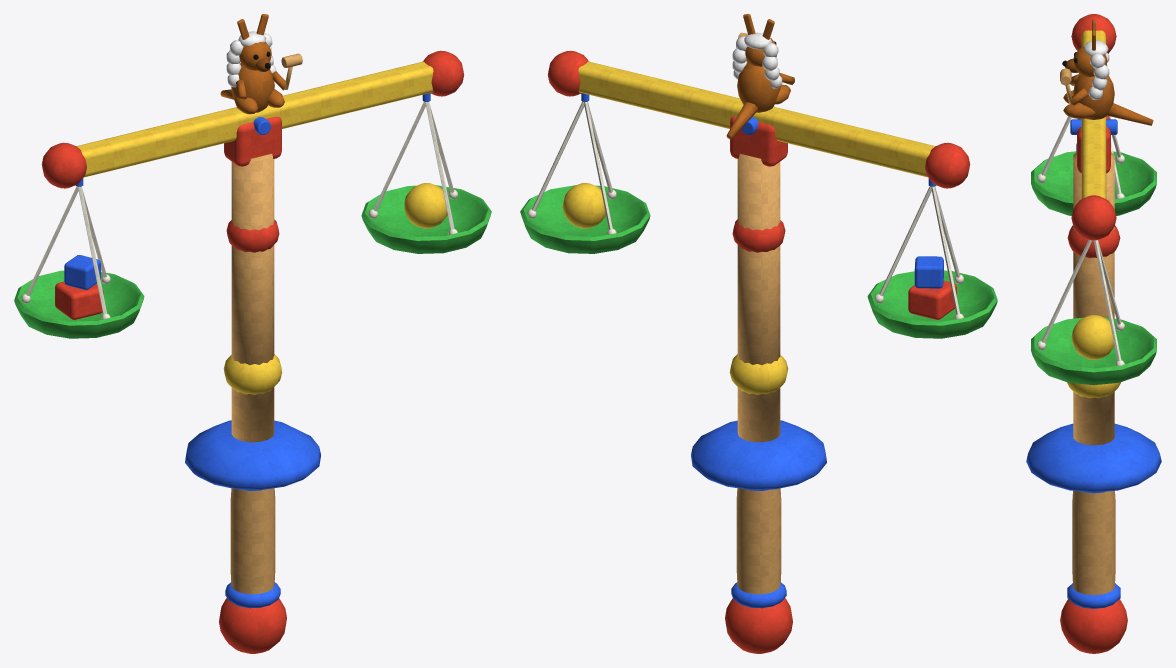
The model's file is w_scales_kangaroo.glb.
3 views of the same model, side by side, from view 1: azimuth 30°, elevation 25°; view 2: azimuth 150°, elevation 25°; view 3: azimuth 270°, elevation 25° (orthographic).
Visible parts, largest first — view 1: kc_body_wzB, kc_beam_wzB, kc_handle_wzA, kc_pan_r_wzB, kc_pan_l_wzB, kc_toys_l_wzN, kc_toys_r_wzN; view 2: kc_body_wzB, kc_beam_wzB, kc_handle_wzA, kc_pan_r_wzB, kc_pan_l_wzB, kc_toys_l_wzN, kc_toys_r_wzN; view 3: kc_body_wzB, kc_handle_wzA, kc_pan_r_wzB, kc_beam_wzB, kc_pan_l_wzB, kc_toys_r_wzN.
Boxes of the visible parts, x1,y1,x2,y2 form: kc_body_wzB: (185,14,320,489); kc_beam_wzB: (41,50,463,188); kc_handle_wzA: (219,488,286,653); kc_pan_r_wzB: (361,101,491,253); kc_pan_l_wzB: (14,186,144,338); kc_toys_l_wzN: (55,255,103,319); kc_toys_r_wzN: (404,183,447,228); kc_body_wzB: (691,14,826,489); kc_beam_wzB: (548,50,970,188); kc_handle_wzA: (725,488,792,653); kc_pan_r_wzB: (520,101,650,253); kc_pan_l_wzB: (867,186,997,338); kc_toys_l_wzN: (908,256,956,319); kc_toys_r_wzN: (562,183,605,228); kc_body_wzB: (1026,20,1161,492); kc_handle_wzA: (1060,491,1127,653); kc_pan_r_wzB: (1031,240,1156,385); kc_beam_wzB: (1070,14,1117,240); kc_pan_l_wzB: (1031,116,1156,215); kc_toys_r_wzN: (1071,315,1114,359).
Bounding box in the file's own units: 0.557 × 0.733 × 0.144.
Materials: 10 (9 with a texture image).
